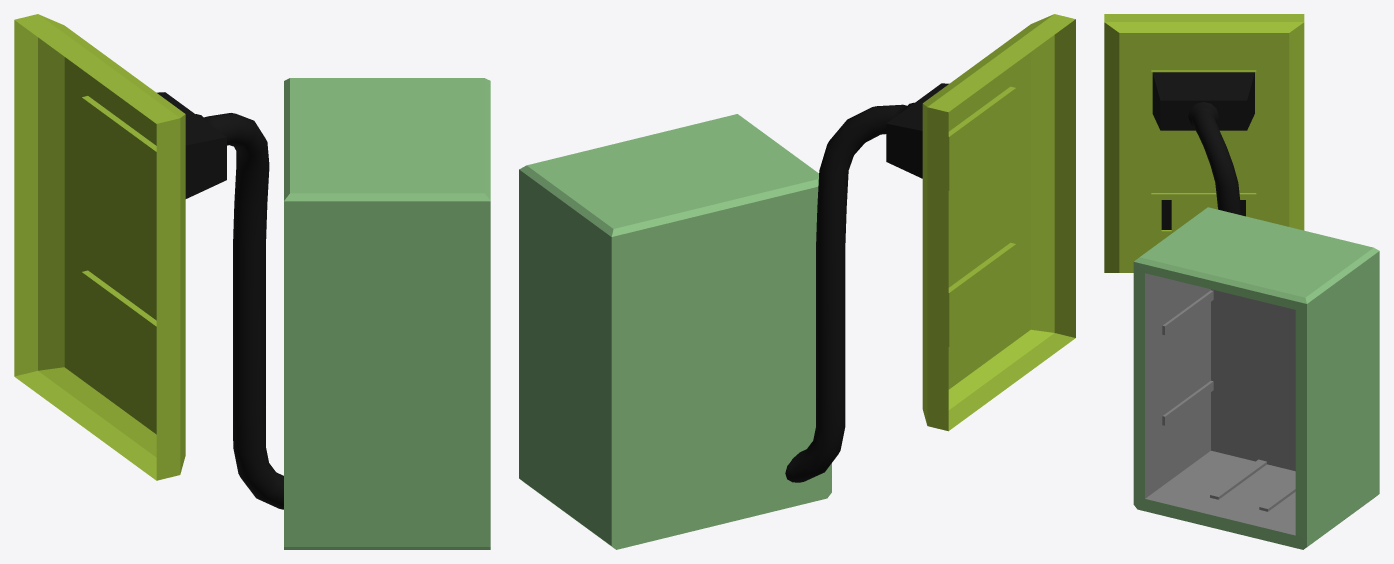
Rendered from Mesh_MtPanorama_Fridge.FBX.
3 renders of one model, left to right at view 1: azimuth 30°, elevation 25°; view 2: azimuth 150°, elevation 25°; view 3: azimuth 270°, elevation 25°, orthographic. The views are drawn at different scales.
Visible parts, largest first — view 1: Mesh_MtPanorama_Fridge; view 2: Mesh_MtPanorama_Fridge; view 3: Mesh_MtPanorama_Fridge.
Part boxes in pixels (x1,y1,x2,y2): Mesh_MtPanorama_Fridge: (14, 14, 490, 549); Mesh_MtPanorama_Fridge: (519, 14, 1075, 549); Mesh_MtPanorama_Fridge: (1104, 14, 1379, 549).
Size of what is drawn, in the model's own units: 545 by 386 by 577.
